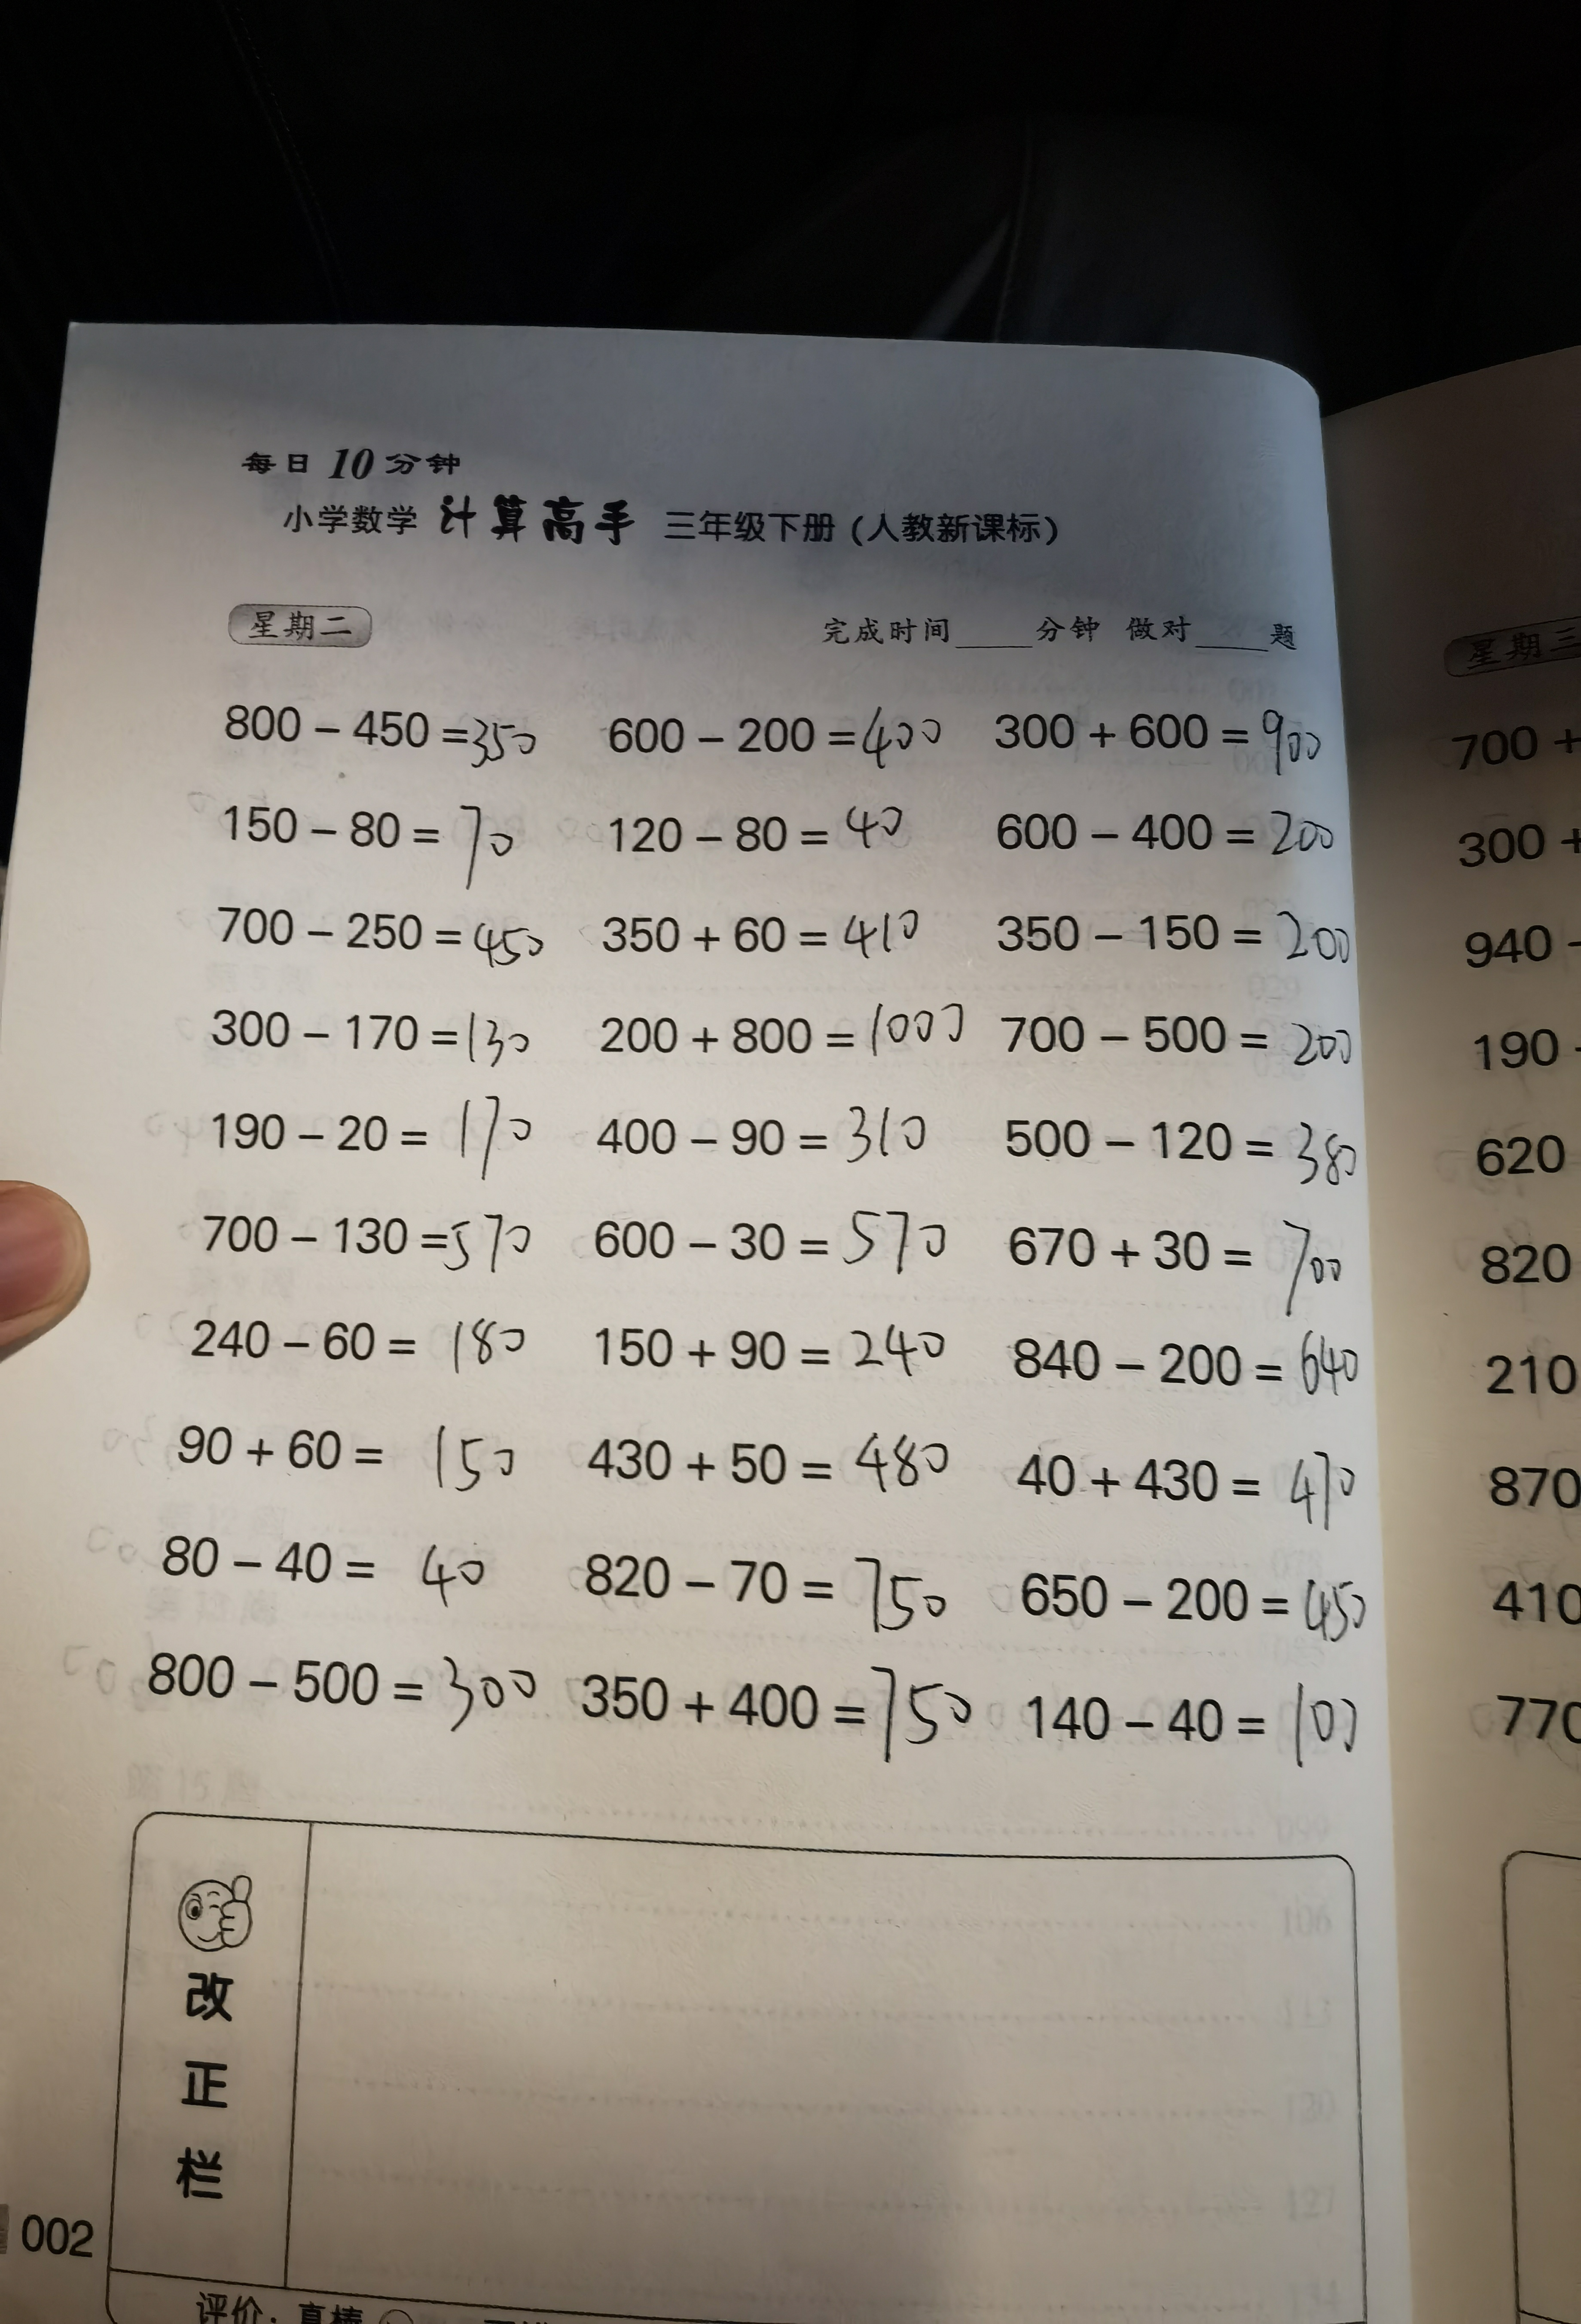equation: (1018, 1669, 1396, 1786), (566, 1662, 988, 1766), (162, 979, 559, 1089), (132, 1521, 536, 1627), (997, 1322, 1385, 1426), (124, 1645, 559, 1736), (566, 1549, 974, 1639), (173, 1094, 561, 1188), (974, 692, 1337, 787), (164, 1417, 533, 1509), (192, 895, 568, 985), (986, 1106, 1367, 1195), (210, 679, 547, 778), (180, 1205, 559, 1292), (180, 1301, 559, 1387), (1004, 1445, 1392, 1528), (1023, 1556, 1387, 1645), (217, 791, 533, 889), (595, 1200, 953, 1286), (591, 997, 988, 1073), (596, 697, 958, 778), (584, 1316, 963, 1392), (1000, 1214, 1355, 1293), (588, 1433, 958, 1509), (999, 896, 1378, 971), (600, 886, 953, 965), (992, 801, 1345, 873), (596, 1108, 946, 1172), (600, 801, 910, 872), (1011, 1011, 1360, 1073)
